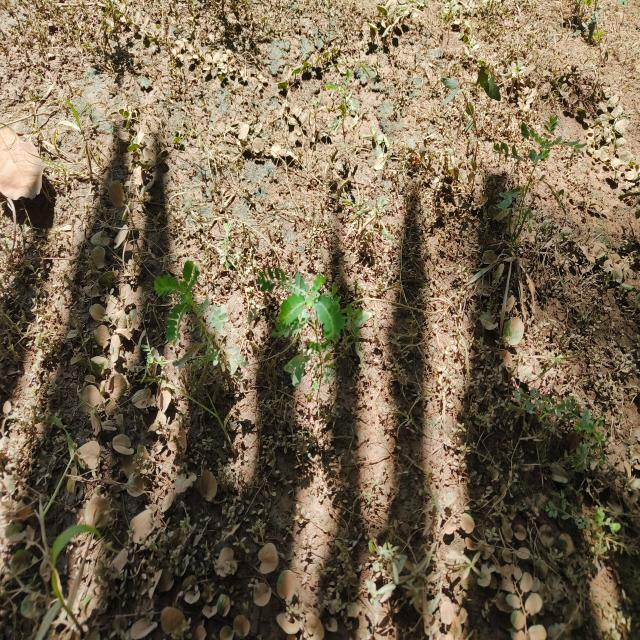weed: (267, 257, 353, 380), (161, 245, 224, 370)
